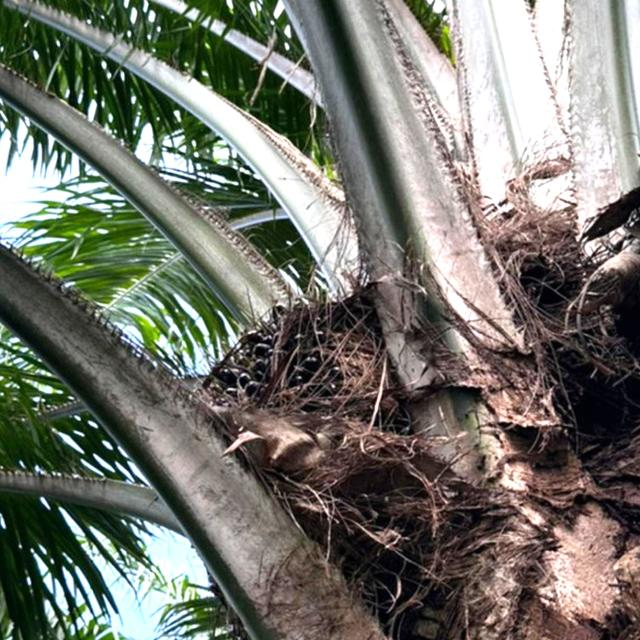almost: (208, 283, 414, 451)
